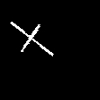single_crochet: (11, 22, 52, 55)
